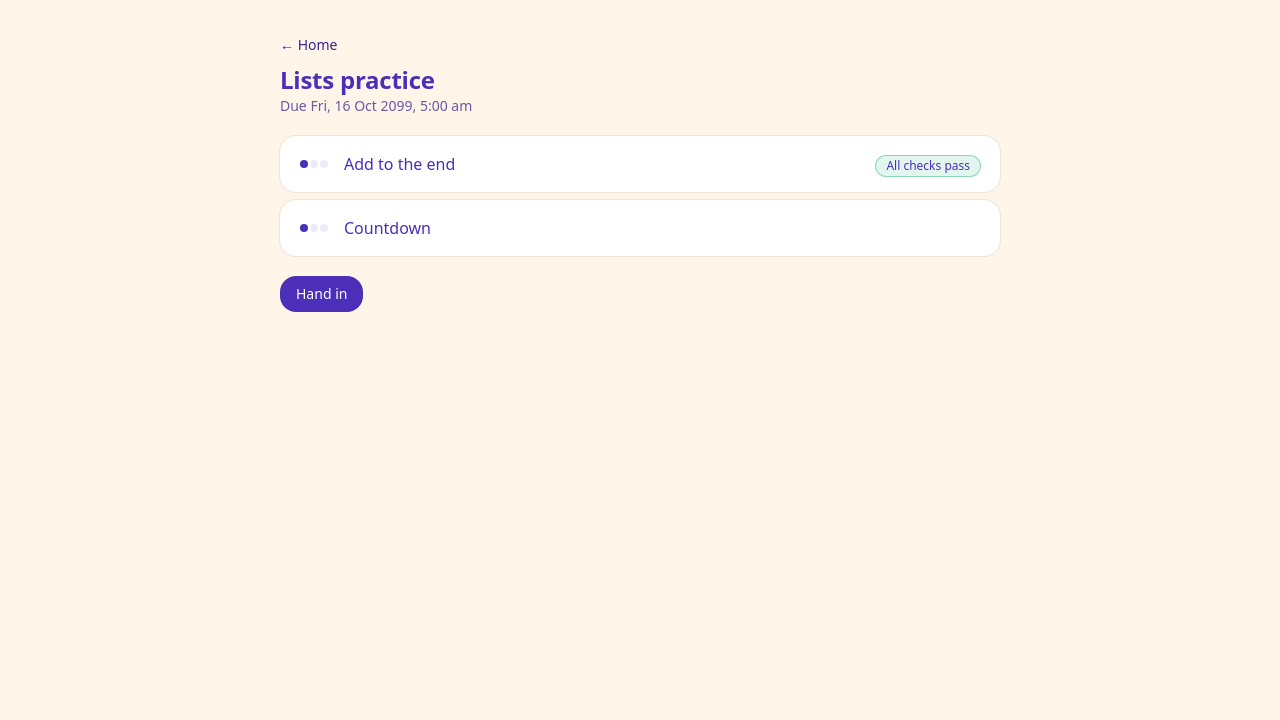
it: hand in checks every problem first and shows how each one is doing
Click the button "Hand in": (322, 294) [280,276,363,312]
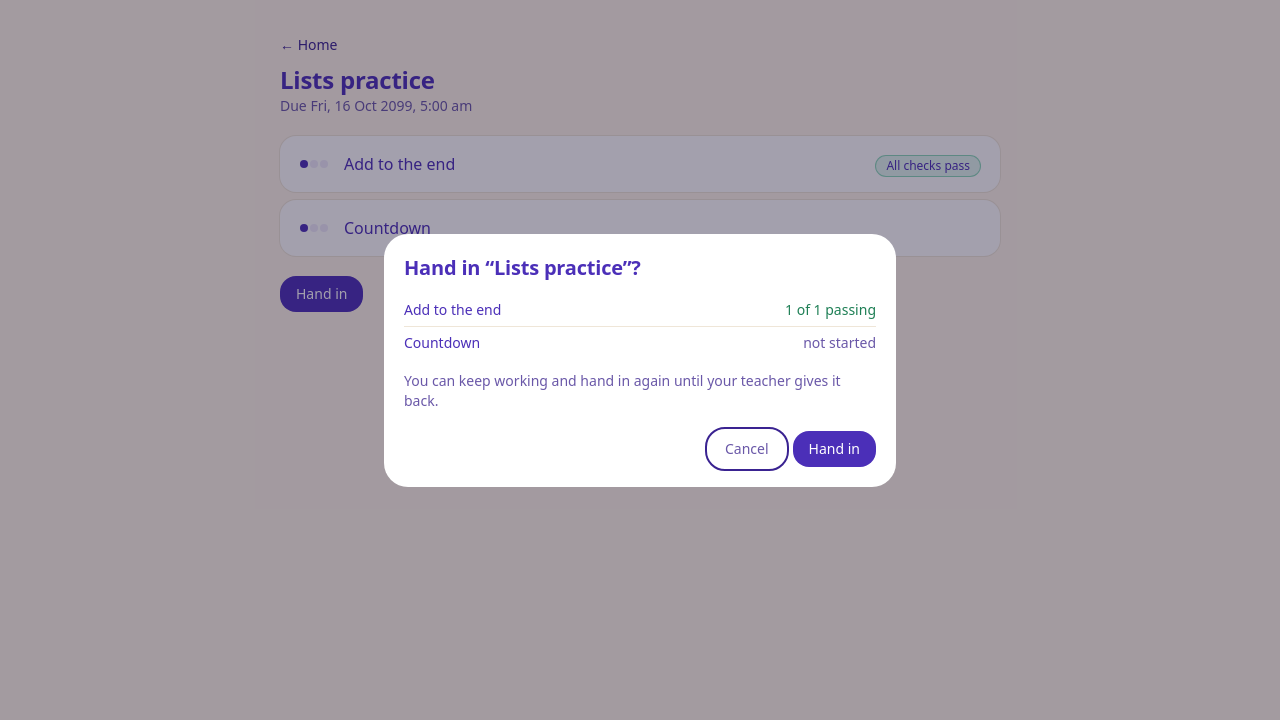
Check: the text "1 of 1 passing" is shown, box [662,294,876,326]
Check: the text "not started" is shown, box [662,326,876,358]
Click the button "Hand in": (834, 448) [793,430,876,466]
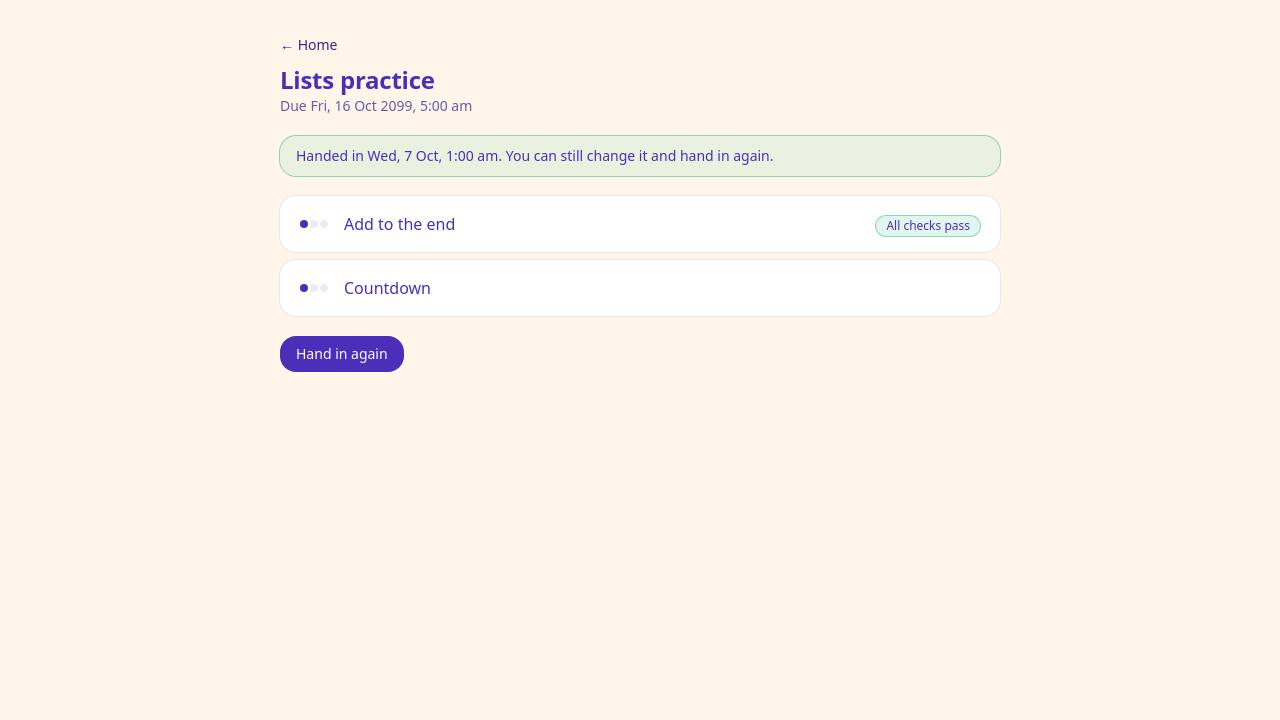
Check: the text "Handed in Wed, 7 Oct, 1:00 am. You can still change it and hand in again." is shown, box [280,136,1000,176]
